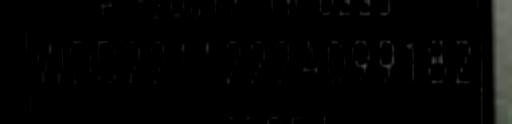letter: (28, 31, 72, 91), (447, 31, 479, 91), (64, 35, 96, 94), (92, 35, 124, 91), (117, 35, 149, 91), (141, 35, 173, 91), (217, 35, 249, 91), (294, 35, 326, 91), (318, 35, 350, 91), (371, 35, 403, 91), (346, 31, 374, 91), (266, 35, 298, 87), (242, 37, 274, 89), (421, 33, 449, 89), (193, 35, 221, 87), (173, 35, 197, 91), (399, 35, 423, 87)
